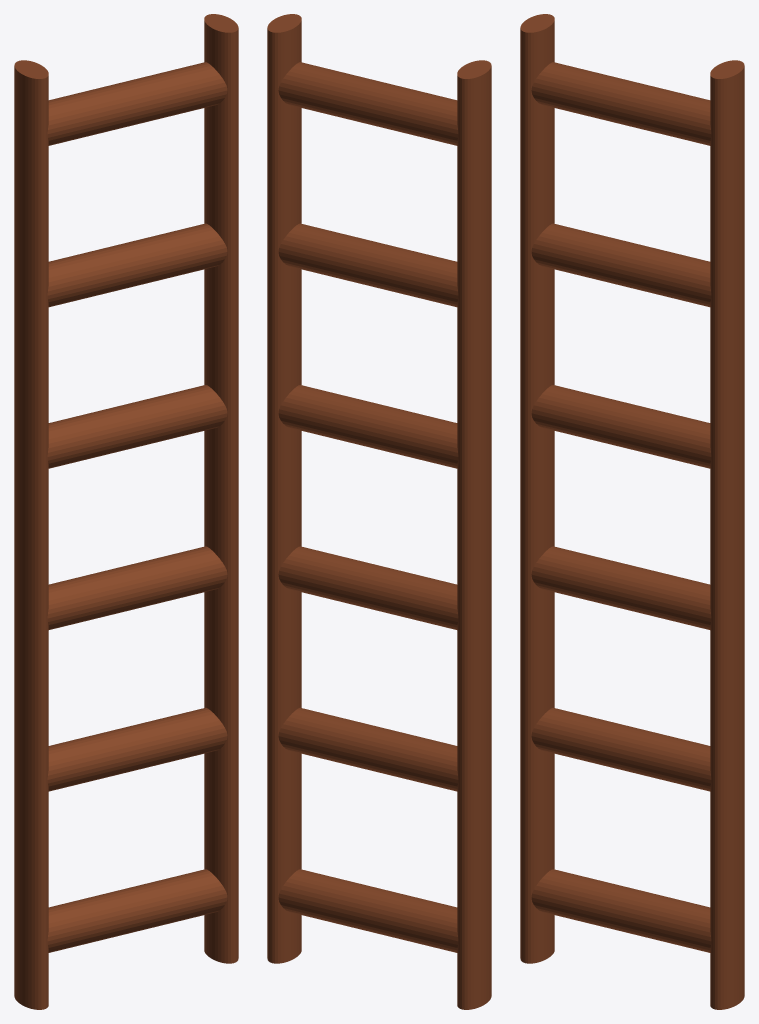
File: merdiven.fbx
3 renders of one model, left to right at view 1: azimuth 30°, elevation 25°; view 2: azimuth 150°, elevation 25°; view 3: azimuth 330°, elevation 25°, orthographic.
Parts seen in each view (by area): view 1: Circle; view 2: Circle; view 3: Circle.
Boxes of the visible parts, bbox=[...] form: Circle: bbox=[14, 14, 238, 1009]; Circle: bbox=[267, 14, 491, 1009]; Circle: bbox=[520, 14, 744, 1009].
Size of the model in its own units: 257 by 1067 by 50.88.
